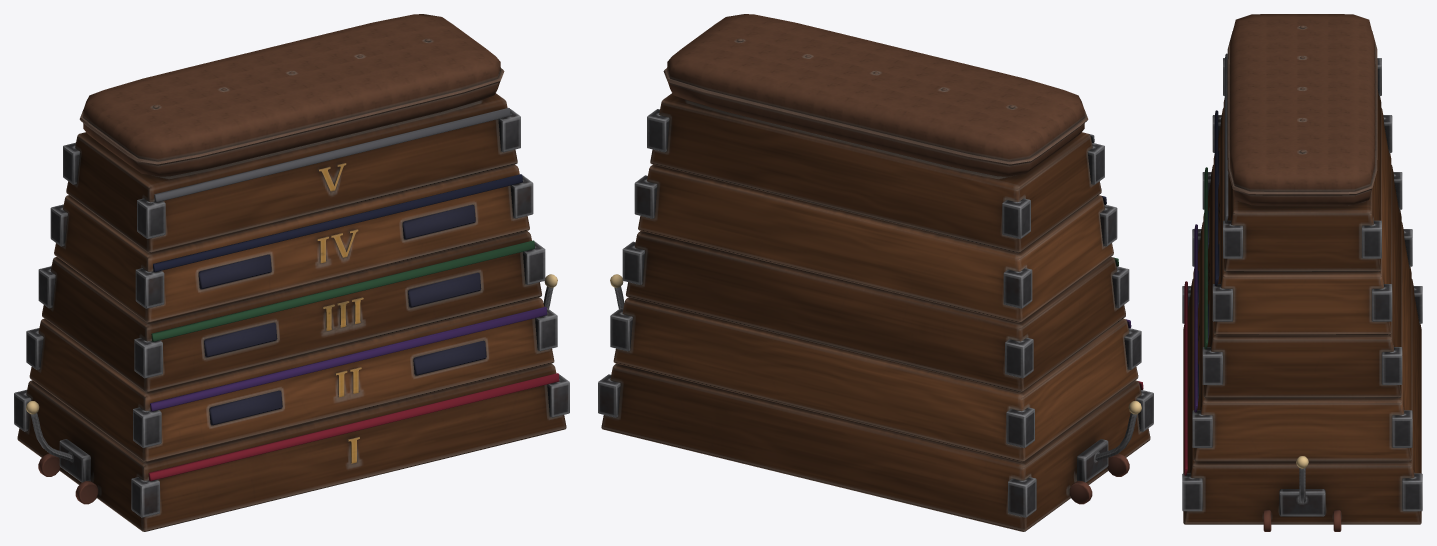
File: VaultingBox.fbx
The picture shows the model from 3 angles, left to right: view 1: azimuth 30°, elevation 25°; view 2: azimuth 150°, elevation 25°; view 3: azimuth 270°, elevation 25°; orthographic projection. The views are drawn at different scales.
Parts seen in each view (by area): view 1: VaultingBox; view 2: VaultingBox; view 3: VaultingBox.
Boxes of the visible parts, bbox=[...] form: VaultingBox: bbox=[14, 14, 569, 531]; VaultingBox: bbox=[598, 14, 1153, 531]; VaultingBox: bbox=[1182, 14, 1422, 531].
Bounding box in the file's own units: 623 × 408 × 261.
